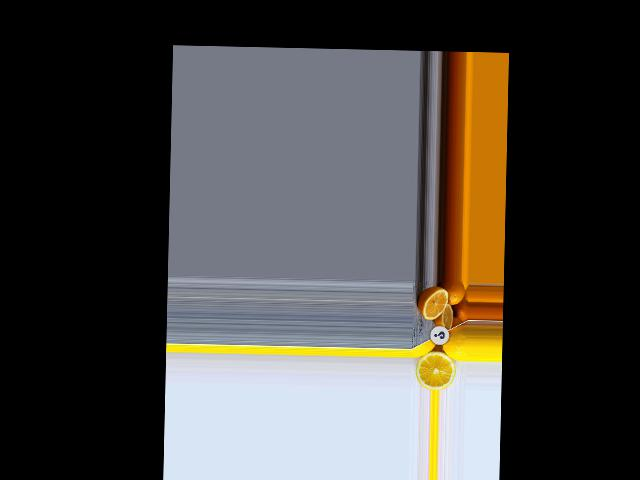lemon: (440, 323, 467, 363)
